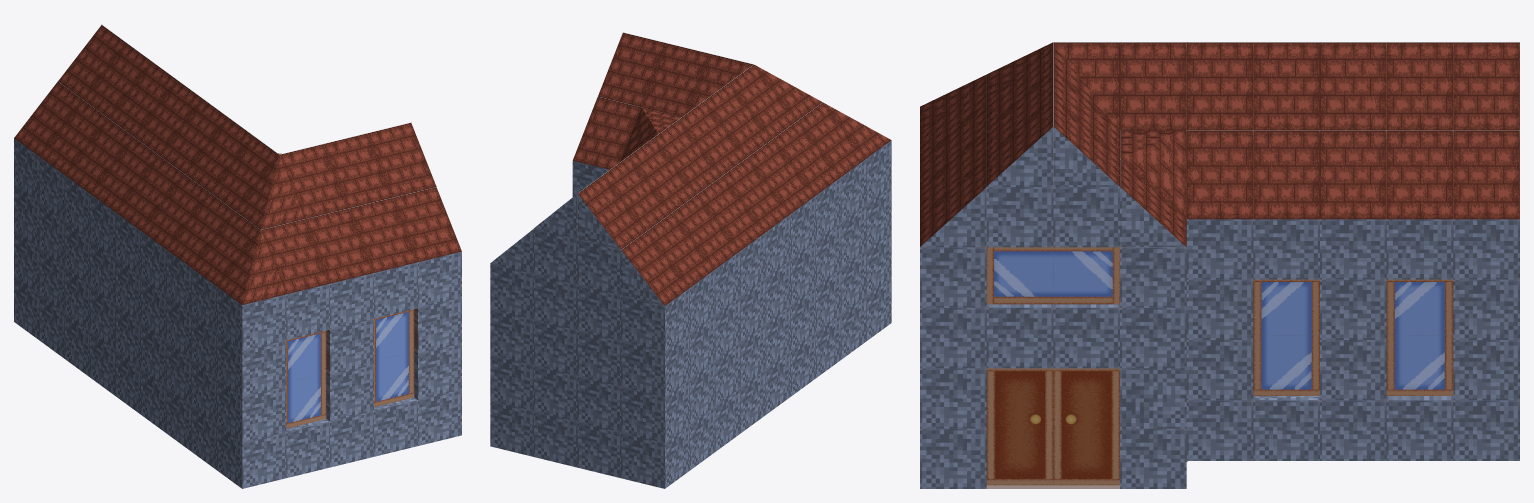
Rendered from house2.dae.
3 views of the same model, side by side, from view 1: azimuth 30°, elevation 25°; view 2: azimuth 150°, elevation 25°; view 3: azimuth 270°, elevation 25° (orthographic). The views are drawn at different scales.
Parts seen in each view (by area): view 1: house-col; view 2: house-col; view 3: house-col.
Boxes of the visible parts, left/top/right/bottom form: house-col: left=14, top=24, right=461, bottom=488; house-col: left=490, top=32, right=891, bottom=488; house-col: left=920, top=42, right=1519, bottom=488.
Size of the model in its own units: 10 by 18 by 12.02.
Materials: 1 (1 with a texture image).
